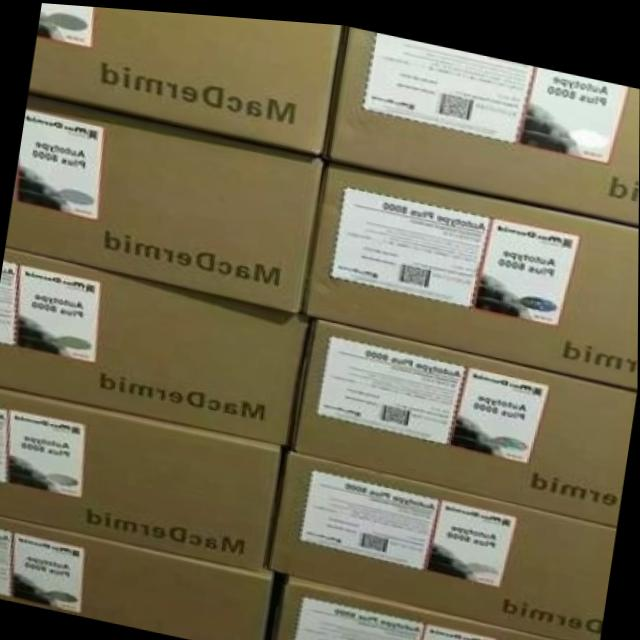box: (307, 161, 639, 381), (294, 313, 637, 518), (6, 96, 321, 309), (270, 446, 617, 639), (330, 21, 640, 213), (0, 248, 309, 439), (0, 390, 283, 566), (29, 2, 343, 152), (0, 516, 273, 640), (278, 571, 597, 640)
